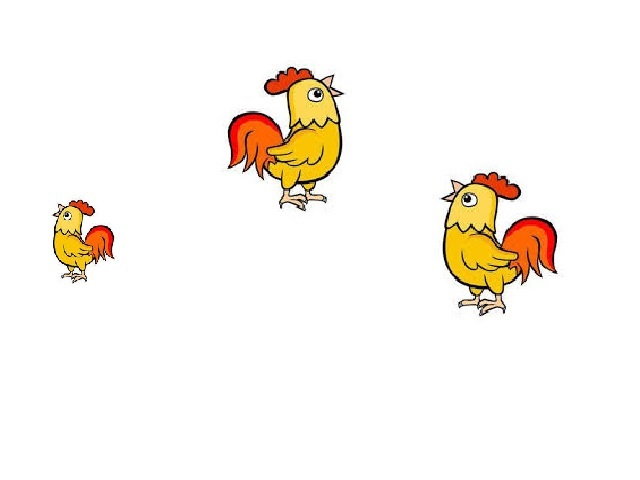crown: (476, 167, 525, 197), (260, 67, 312, 91), (71, 198, 94, 213)
eyes: (307, 88, 329, 104), (462, 191, 473, 204), (63, 211, 73, 221)
feet: (274, 185, 333, 208), (460, 295, 511, 317), (63, 271, 86, 284)
tail: (225, 112, 282, 175), (504, 217, 557, 283), (86, 226, 117, 264)
